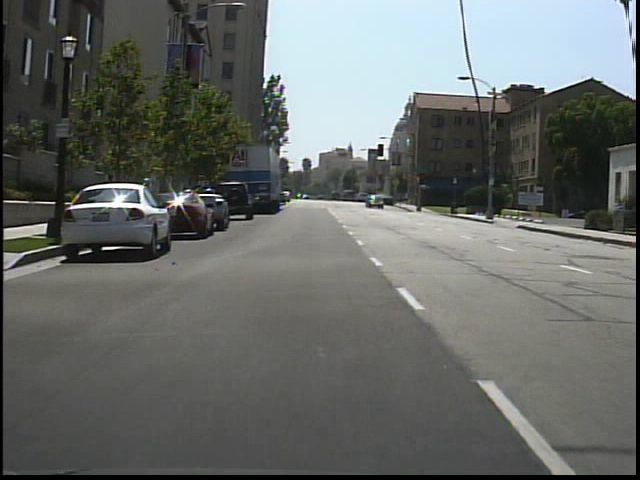person: (101, 168, 123, 220), (139, 172, 158, 219)
